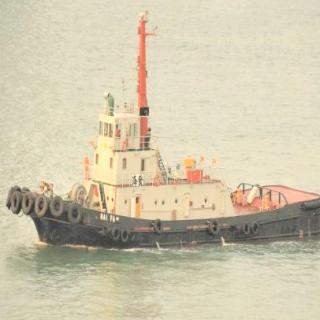Tug Boat: (0, 11, 296, 247)
